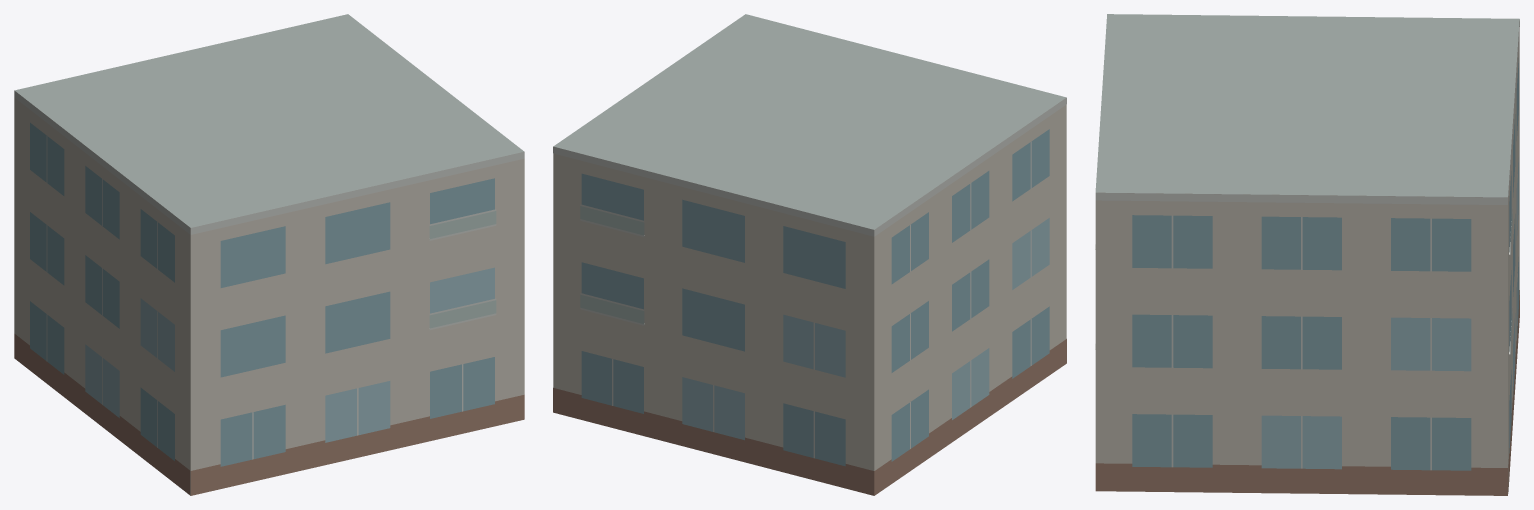
Rendered from survey-upis-32834064.glb.
3 views of the same model, side by side, from view 1: azimuth 30°, elevation 25°; view 2: azimuth 150°, elevation 25°; view 3: azimuth 270°, elevation 25° (orthographic). The views are drawn at different scales.
Visible parts, largest first — view 1: survey-upis-32834064.tmp; view 2: survey-upis-32834064.tmp; view 3: survey-upis-32834064.tmp.
Part boxes in pixels (x1=…): survey-upis-32834064.tmp: x1=14, y1=14, x2=524, y2=495; survey-upis-32834064.tmp: x1=553, y1=14, x2=1066, y2=495; survey-upis-32834064.tmp: x1=1095, y1=14, x2=1519, y2=495.
Bounding box in the file's own units: 12.4 × 9.4 × 12.12.
